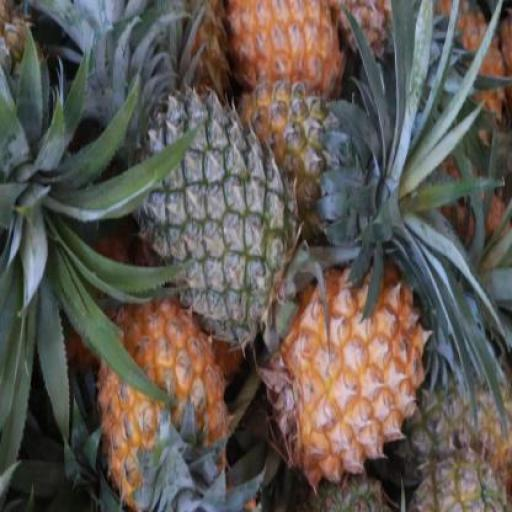Pineapple - v8 v1: (268, 262, 428, 472), (92, 303, 236, 511), (230, 0, 344, 110)
